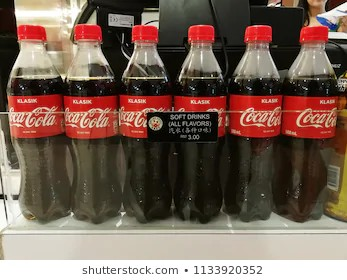coke-bottle-700ml: (2, 24, 69, 223), (224, 21, 289, 221), (174, 23, 232, 223), (283, 18, 339, 222), (68, 24, 121, 222), (122, 22, 171, 225)
